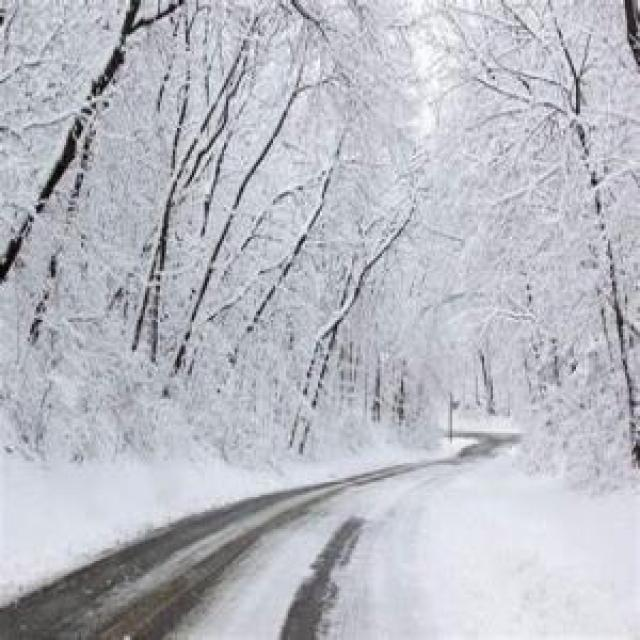ice-road: (0, 429, 517, 640)
